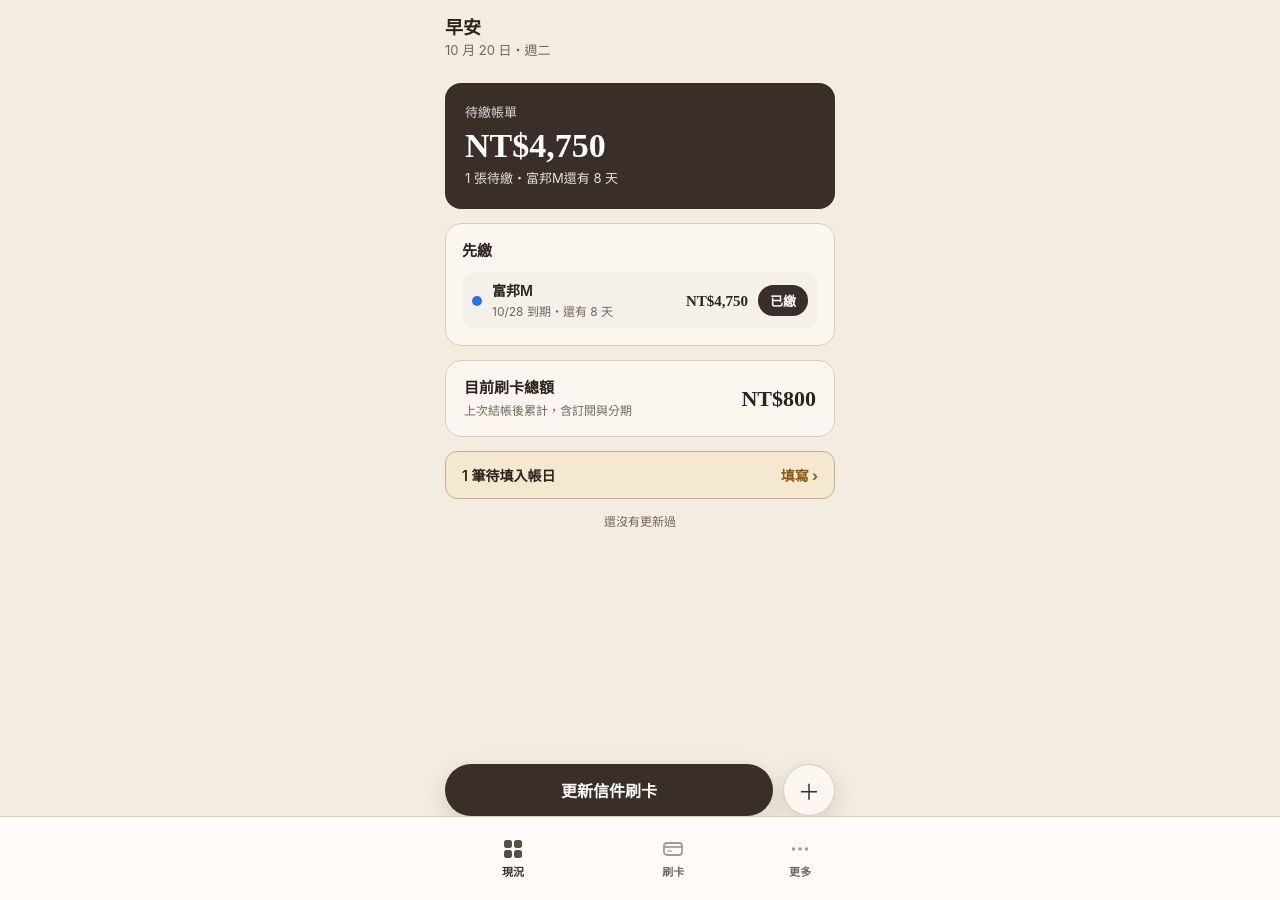
現況：待繳與目前刷卡總額 › 一張卡：待繳帳單、目前刷卡總額就是各卡與帳單裡的同一組數字
Expected: the element "待繳帳單" shows "NT$4,750", [465, 127, 606, 164]
Expected: the element "目前刷卡總額" shows "NT$800", [741, 386, 816, 411]
Click the button "更多" at (800, 858), box [754, 826, 847, 890]
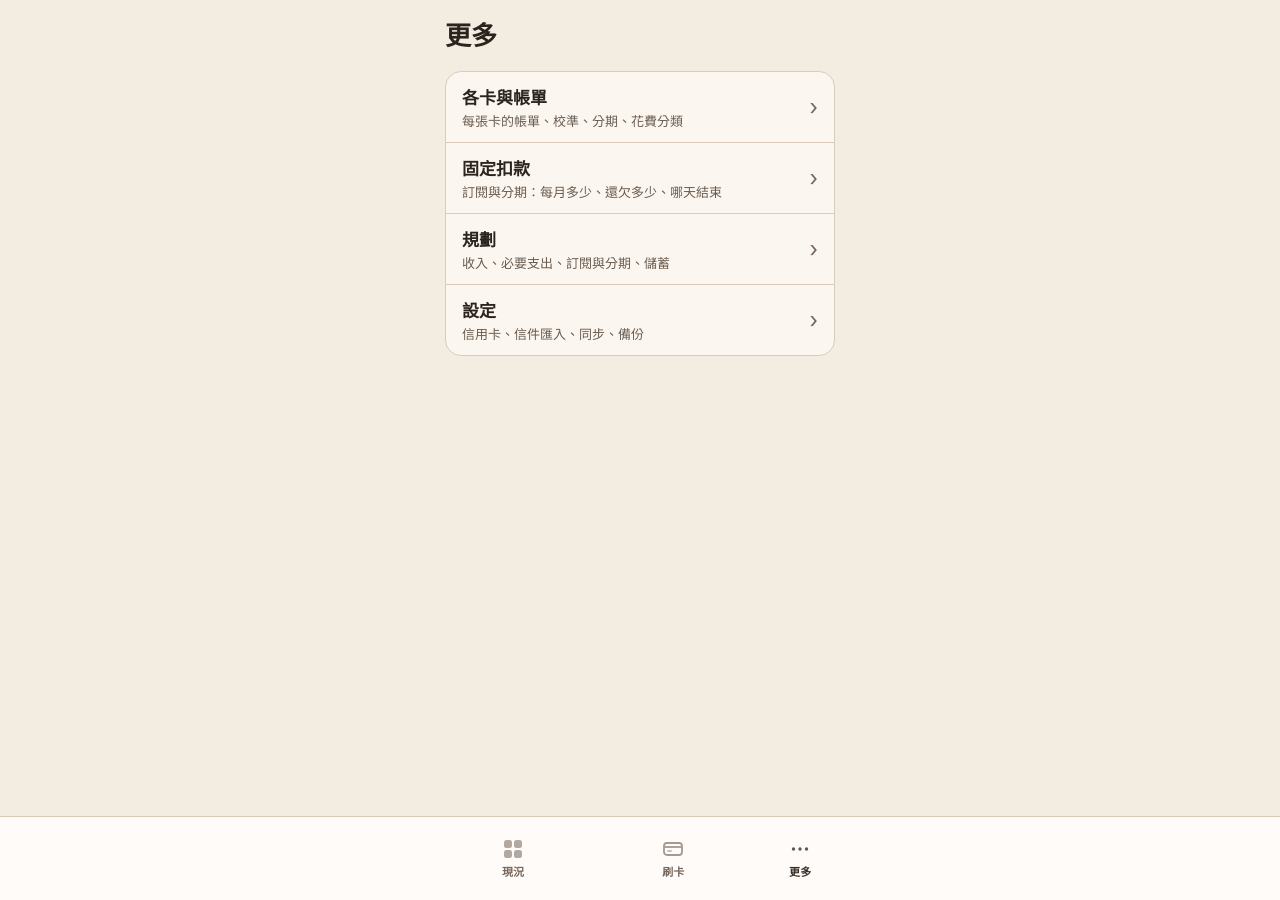
Click the button "各卡與帳單 每張卡的帳單、校準、分期、花費分類 ›" at (504, 98), box [446, 72, 834, 142]
(page scrolled)
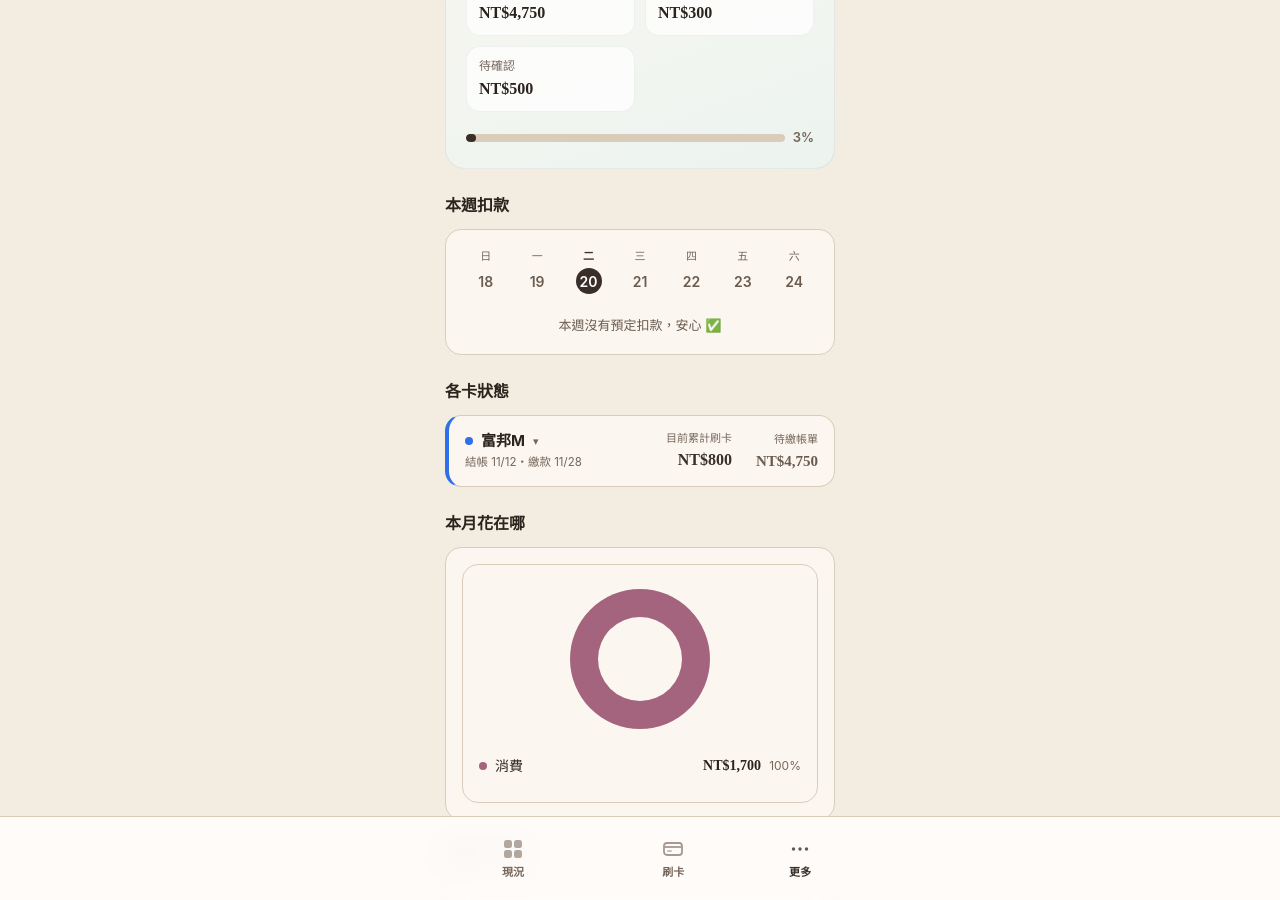
Result: the button with class "credit-card-summary-row" reads "富邦M ▾ 結帳 11/12・繳款 11/28 目前累計刷卡 NT$800 待繳帳單 NT$4,750" at [449, 416, 834, 486]
